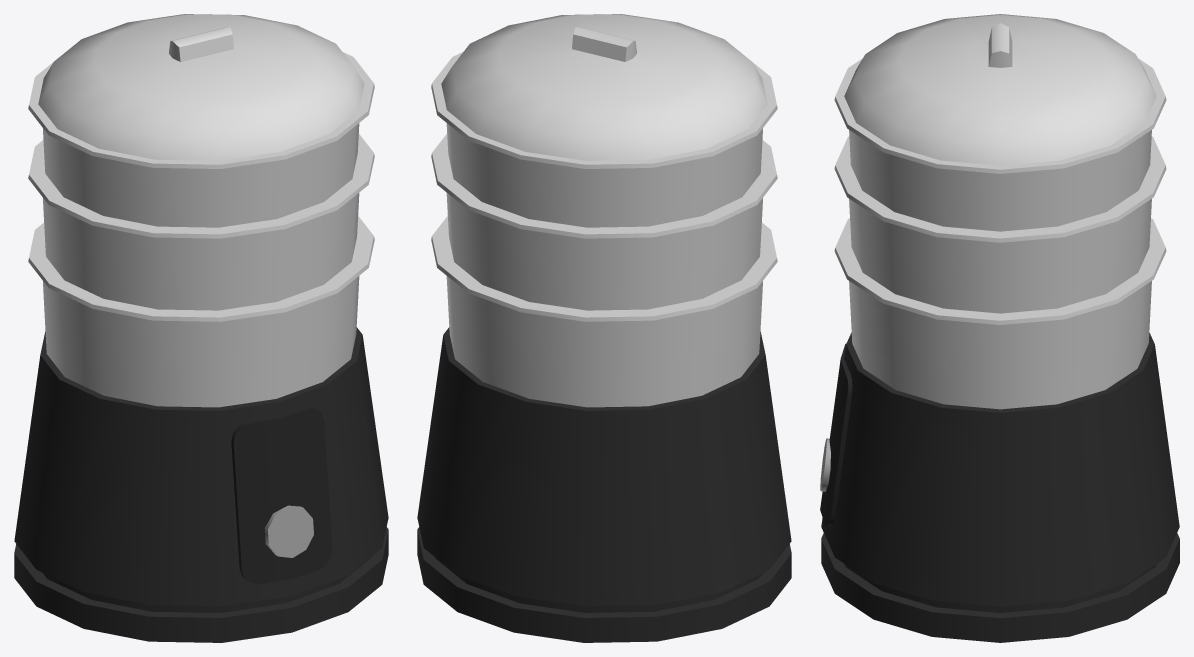
Rendered from SteamerMachine_01.fbx.
3 views of the same model, side by side, from view 1: azimuth 30°, elevation 25°; view 2: azimuth 150°, elevation 25°; view 3: azimuth 270°, elevation 25° (orthographic).
Visible parts, largest first — view 1: SteamerMachine_01, SteamerMachine_01_Lid; view 2: SteamerMachine_01, SteamerMachine_01_Lid; view 3: SteamerMachine_01, SteamerMachine_01_Lid.
Part boxes in pixels (x1,y1,x2,y2): SteamerMachine_01: [14, 52, 388, 642]; SteamerMachine_01_Lid: [38, 14, 364, 160]; SteamerMachine_01: [417, 52, 791, 642]; SteamerMachine_01_Lid: [441, 14, 767, 160]; SteamerMachine_01: [820, 58, 1179, 642]; SteamerMachine_01_Lid: [844, 14, 1156, 165].
Bounding box in the file's own units: 0.338 × 0.5205 × 0.3225.
